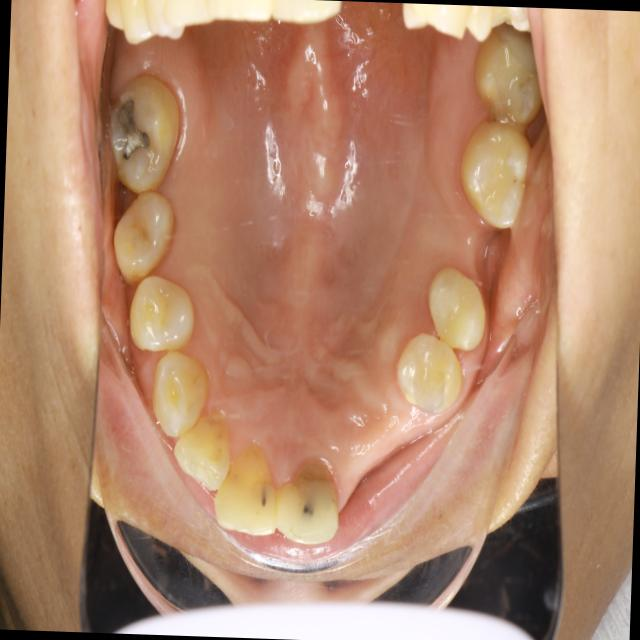tooth: (450, 96, 538, 244), (103, 65, 184, 203), (207, 426, 284, 550), (103, 186, 188, 292), (465, 26, 546, 135), (141, 341, 221, 449), (121, 259, 202, 364), (415, 253, 497, 352), (392, 330, 469, 428), (166, 399, 241, 495)
